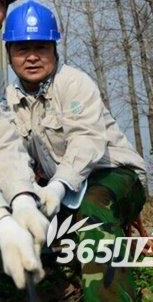gloves: (8, 193, 49, 281), (30, 179, 64, 218)
hard-hat: (1, 0, 60, 43)
ppe-suit: (1, 0, 26, 24)
